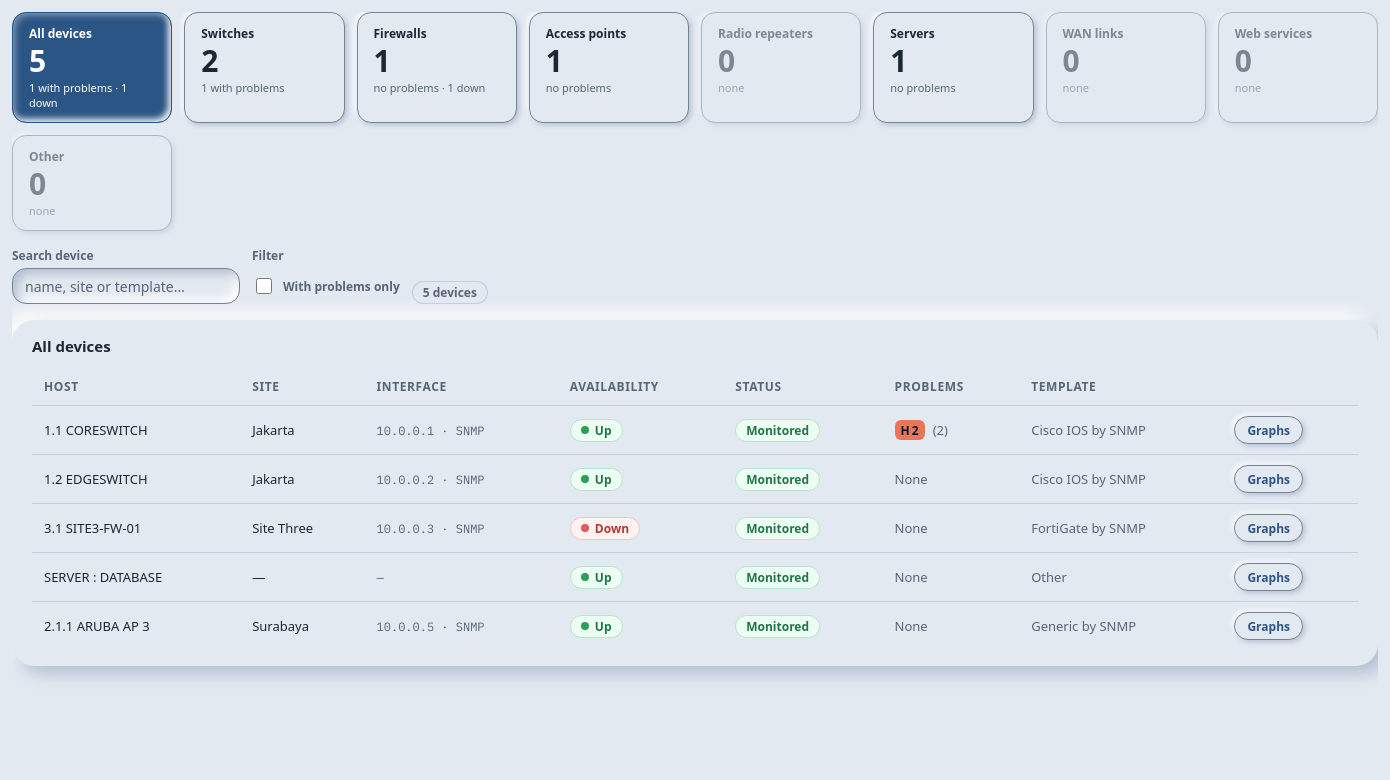
choosing a kind › lists the devices of that kind alone, names it, and presses its tile
expect the element named "Kind of device" is shown: met, box x1=12 y1=12 x2=1378 y2=231
Click the button "Switches 2 1 with problems" at (264, 68), box x1=184 y1=12 x2=345 y2=123
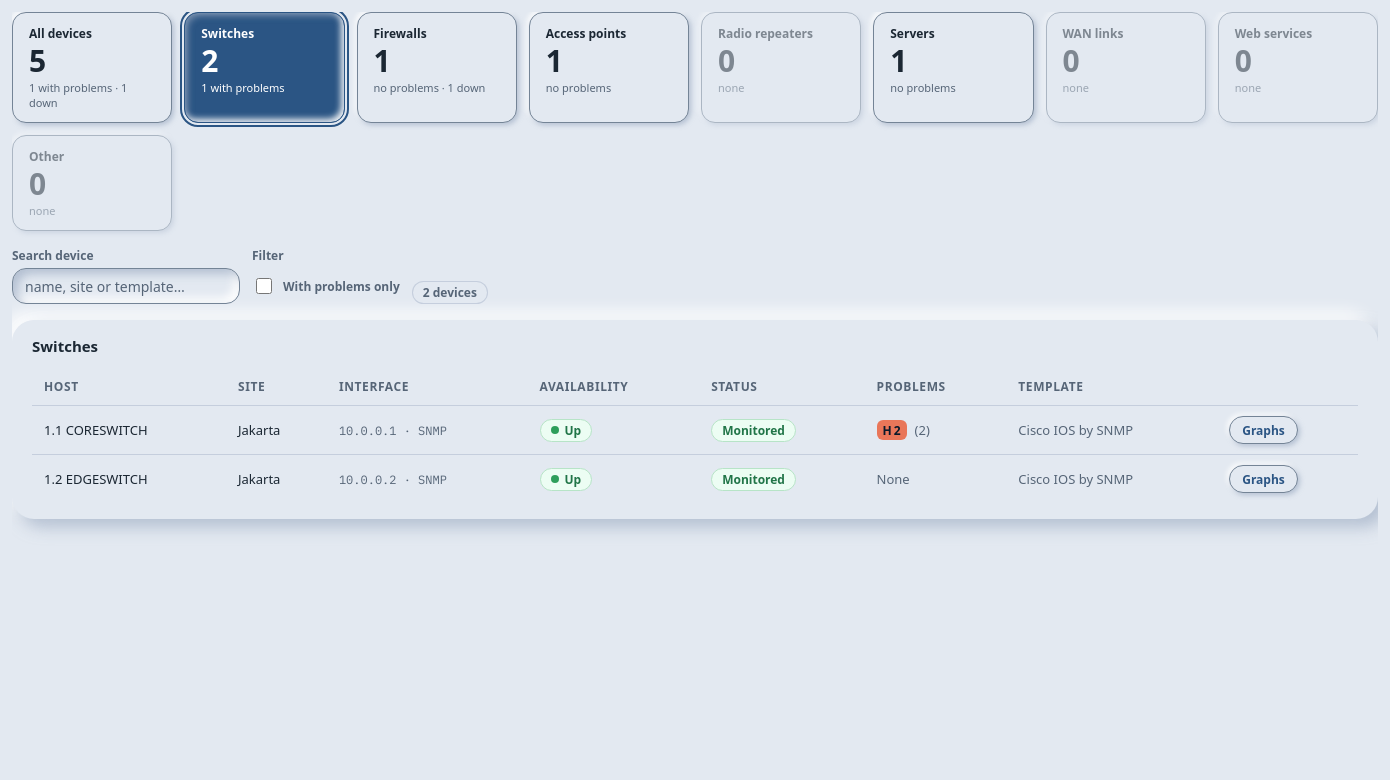
expect the heading "Switches" is shown: met, box x1=32 y1=336 x2=98 y2=356
expect the text "2 devices" is shown: met, box x1=412 y1=281 x2=488 y2=304
